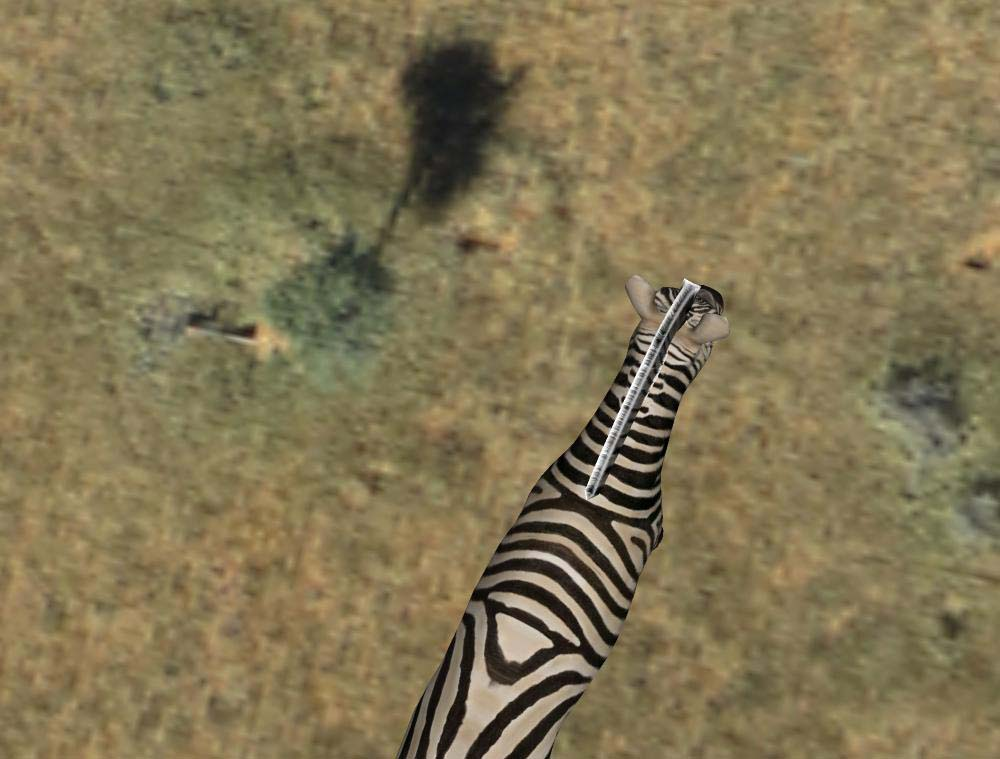zebra: (398, 262, 733, 759)
